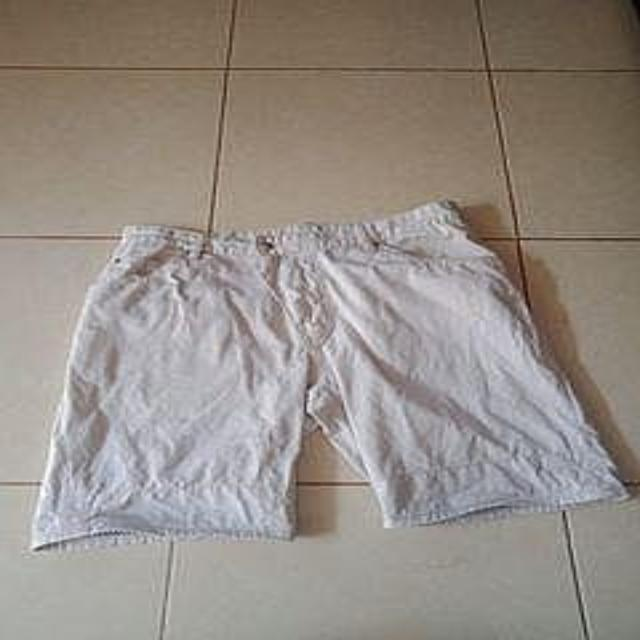SHORT: (18, 193, 640, 561)
